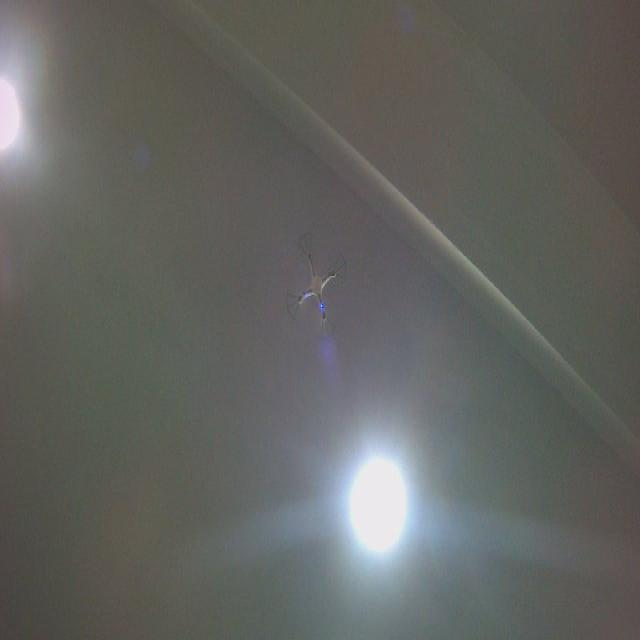drone: (282, 228, 351, 343)
